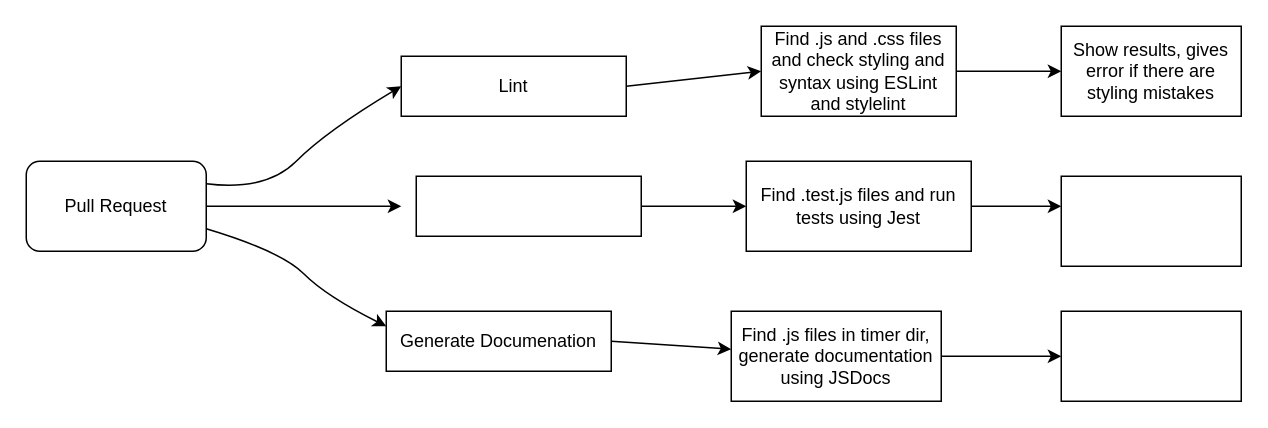
The diagram is 1268 pixels wide and 428 high, and some of its shapes have lost their labels. The shapes that lost their labels are listed below. From the top down, each one's centre as x and y in pixels, then its label:
(528,205): Test
(1150,220): Show results, gives error if there are test failures
(1150,355): Push new updated documentation to source directory
